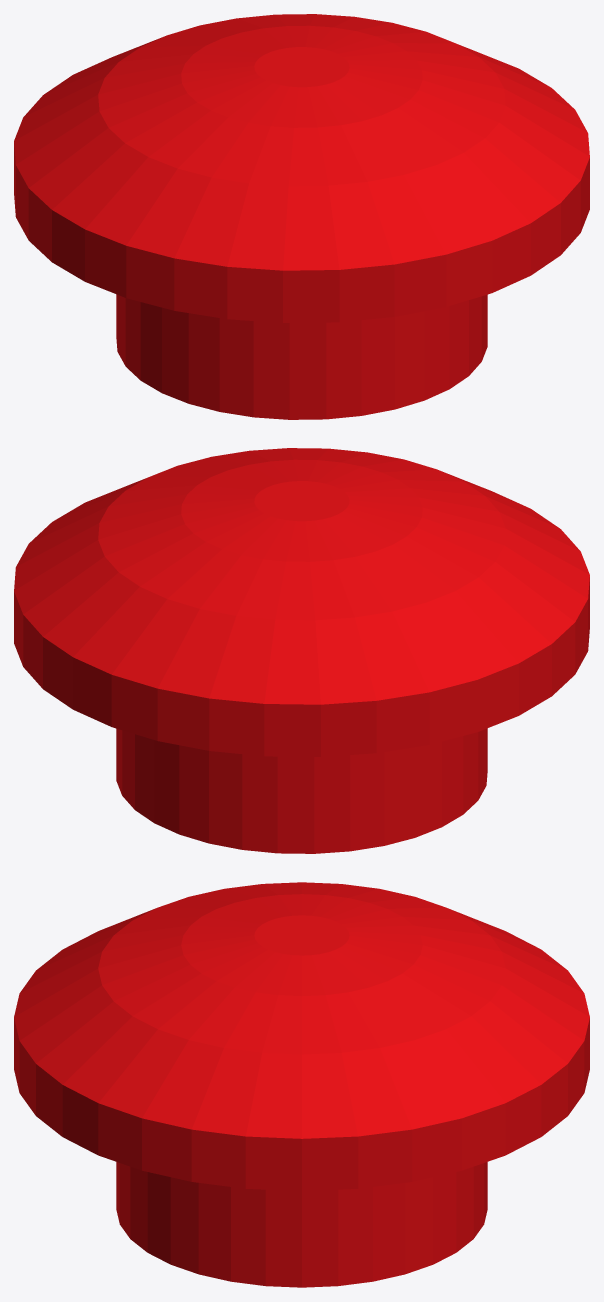
The model's file is Кнопка.fbx.
The picture shows the model from 3 angles, top to bottom: view 1: azimuth 30°, elevation 25°; view 2: azimuth 150°, elevation 25°; view 3: azimuth 270°, elevation 25°; orthographic projection.
Visible parts, largest first — view 1: Окружность; view 2: Окружность; view 3: Окружность.
Part boxes in pixels (<box>): Окружность: <box>14,14,589,419</box>; Окружность: <box>14,448,589,853</box>; Окружность: <box>14,882,589,1287</box>.
Size of the model in its own units: 310 by 163 by 310.
